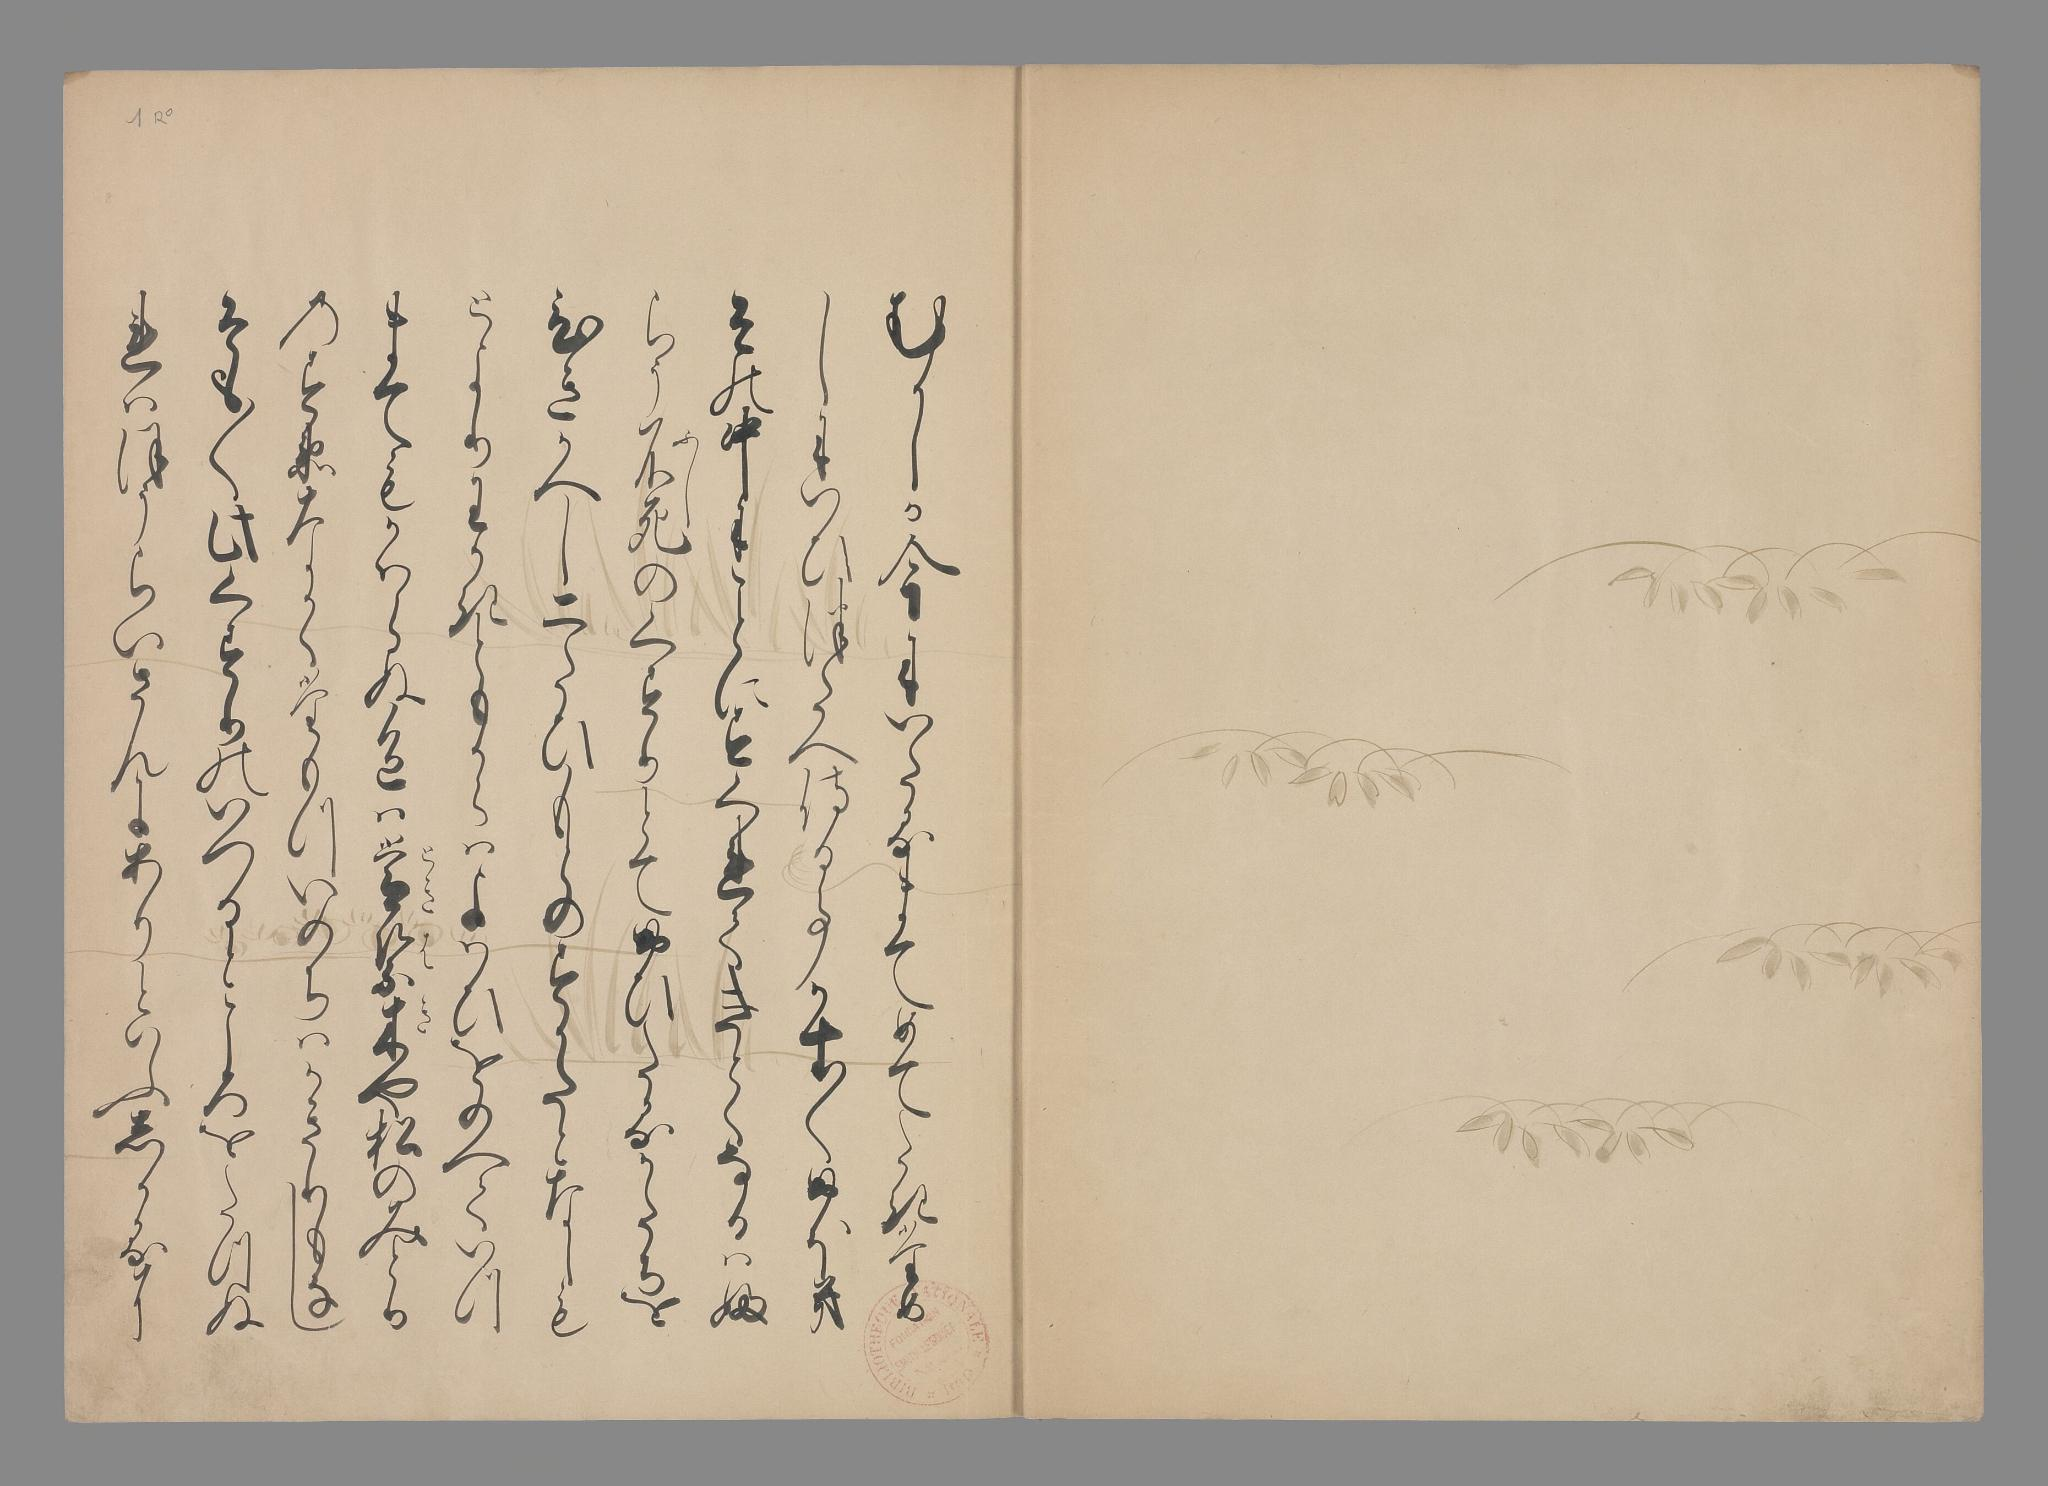MainZone-Character: (623, 416, 706, 501), (366, 912, 439, 996), (367, 833, 444, 912), (366, 996, 436, 1057)
MainZone-Ruby: (673, 426, 701, 494), (420, 838, 437, 917), (413, 919, 436, 971), (417, 995, 434, 1038)
